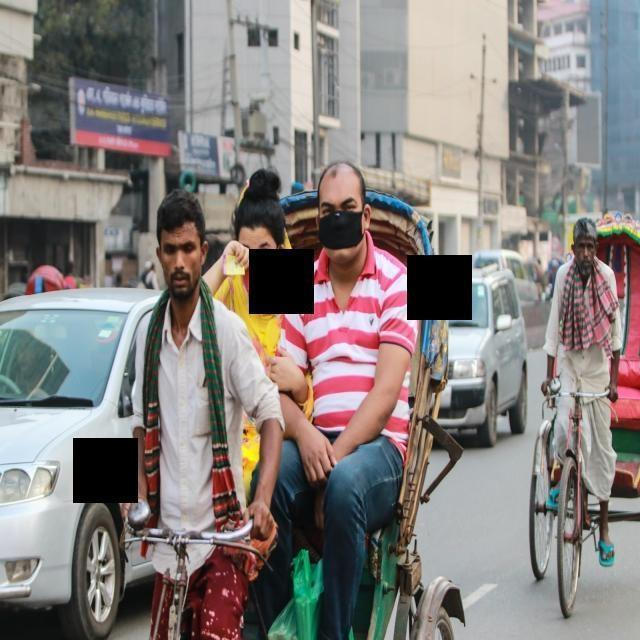hairnet: (316, 198, 372, 267)
no_gloves: (228, 166, 291, 237), (151, 192, 203, 248), (316, 157, 361, 204), (569, 216, 597, 247)
no_hairnet: (155, 257, 202, 300), (571, 248, 599, 281)
